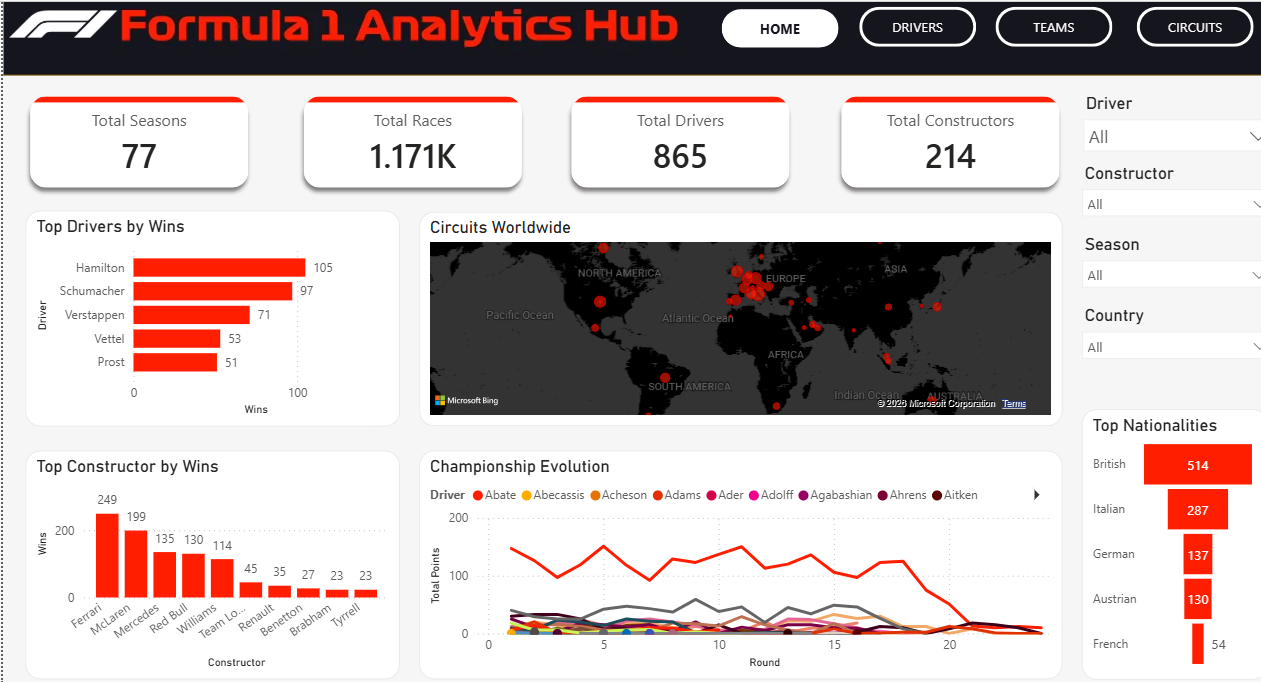

What the dashboard file says about the page in this screenshot:
{"tool":"powerbi","page":{"name":"HOME","canvas":[1280,720],"ordinal":0},"visuals":[{"type":"slicer","fields":{"Values":["drivers.surname"]},"box":[1070,120,210,65],"z":0},{"type":"slicer","fields":{"Values":["seasons.year"]},"box":[1069.2,255.8,210,83.3],"z":1000},{"type":"slicer","fields":{"Values":["circuits.country"]},"box":[1069.2,327.5,210.8,80],"z":2000},{"type":"slicer","fields":{"Values":["constructors.name"]},"box":[1069.2,185,210.8,65],"z":3000},{"type":"funnel","title":"Top Nationalities","fields":{"Y":["CountNonNull(results.position)"],"Category":["constructors.nationality"]},"box":[1079,436,186,270],"z":8000},{"type":"lineChart","title":"Championship Evolution","fields":{"Category":["races.round"],"Y":["Sum(results.points)"],"Series":["drivers.surname"]},"box":[415.7,477.1,642.9,228.6],"z":9000},{"type":"map","title":"Circuits Worldwide","fields":{"Category":["circuits.country"],"Size":["CountNonNull(races.circuitId)"]},"box":[415.7,238.6,642.9,214.3],"z":10000},{"type":"clusteredColumnChart","title":"Top Constructor by Wins","fields":{"Category":["constructors.name"],"Y":["CountNonNull(results.position)"]},"box":[22.9,477.1,374.3,228.6],"z":11000},{"type":"clusteredBarChart","title":"Top Drivers by Wins","fields":{"Category":["drivers.surname"],"Y":["CountNonNull(results.position)"]},"box":[22.9,237.1,374.3,215.7],"z":12000},{"type":"cardVisual","title":"home_Card","fields":{"Data":["CountNonNull(races.raceId)"]},"box":[287.5,110,245,118],"z":13000},{"type":"cardVisual","title":"home_Card","fields":{"Data":["CountNonNull(drivers.driverId)"]},"box":[555,110,245,118],"z":14000},{"type":"cardVisual","title":"home_Card","fields":{"Data":["CountNonNull(constructors.constructorId)"]},"box":[825.5,110,245,118],"z":15000},{"type":"cardVisual","title":"home_Card","fields":{"Data":["CountNonNull(seasons.year)"]},"box":[13.5,110,245.3,118.2],"z":16000},{"type":"shape","box":[0,0,1280,102.7],"z":17000},{"type":"actionButton","title":"CIRCUITS","box":[1133.2,34,117,40],"z":18000},{"type":"actionButton","title":"TEAMS","box":[992.2,34,117,40],"z":19000},{"type":"actionButton","title":"DRIVERS","box":[856,34,117,40],"z":20000},{"type":"actionButton","title":"HOME","box":[718.9,36.4,116.7,38.3],"z":21000},{"type":"image","title":"Image","box":[107.5,5,580,95],"z":22000},{"type":"image","title":"f1_Image","box":[6.2,6.2,108.1,90],"z":23000}]}

Visuals, with their boxes on the page's 1280x720 design canvas (x1, y1, x2, y2). These are canvas units, not pixel positions in the 1261x682 screenshot, which may show the page scaled, cropped or inside an application window:
slicer - drivers.surname: locate(1070, 120, 1280, 185)
slicer - seasons.year: locate(1069, 256, 1279, 339)
slicer - circuits.country: locate(1069, 328, 1280, 408)
slicer - constructors.name: locate(1069, 185, 1280, 250)
"Top Nationalities" funnel: locate(1079, 436, 1265, 706)
"Championship Evolution" lineChart: locate(416, 477, 1059, 706)
"Circuits Worldwide" map: locate(416, 239, 1059, 453)
"Top Constructor by Wins" clusteredColumnChart: locate(23, 477, 397, 706)
"Top Drivers by Wins" clusteredBarChart: locate(23, 237, 397, 453)
"home_Card" cardVisual: locate(288, 110, 532, 228)
"home_Card" cardVisual: locate(555, 110, 800, 228)
"home_Card" cardVisual: locate(826, 110, 1070, 228)
"home_Card" cardVisual: locate(14, 110, 259, 228)
shape: locate(0, 0, 1280, 103)
"CIRCUITS" actionButton: locate(1133, 34, 1250, 74)
"TEAMS" actionButton: locate(992, 34, 1109, 74)
"DRIVERS" actionButton: locate(856, 34, 973, 74)
"HOME" actionButton: locate(719, 36, 836, 75)
"Image" image: locate(108, 5, 688, 100)
"f1_Image" image: locate(6, 6, 114, 96)
